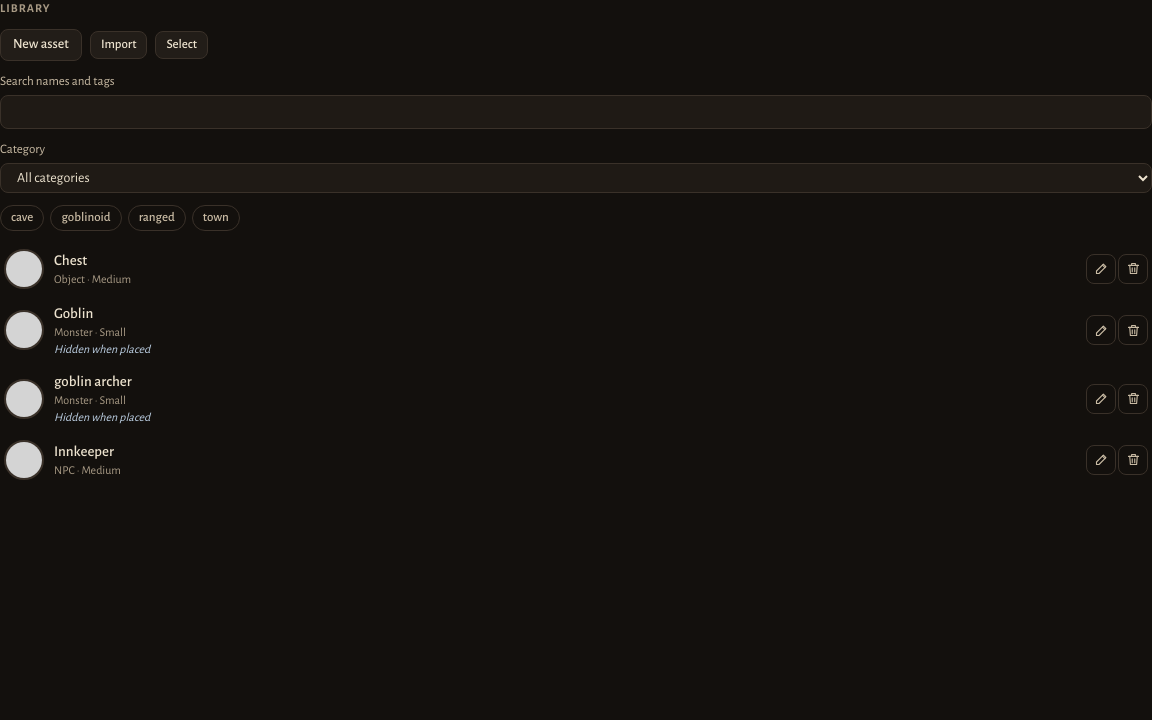
Test: deleting (specs/03-domain-model.md §7, D-083) › deletes an unused asset after the confirmation
Click the button named "Delete Chest" at (1133, 269), box [1118,254,1148,284]
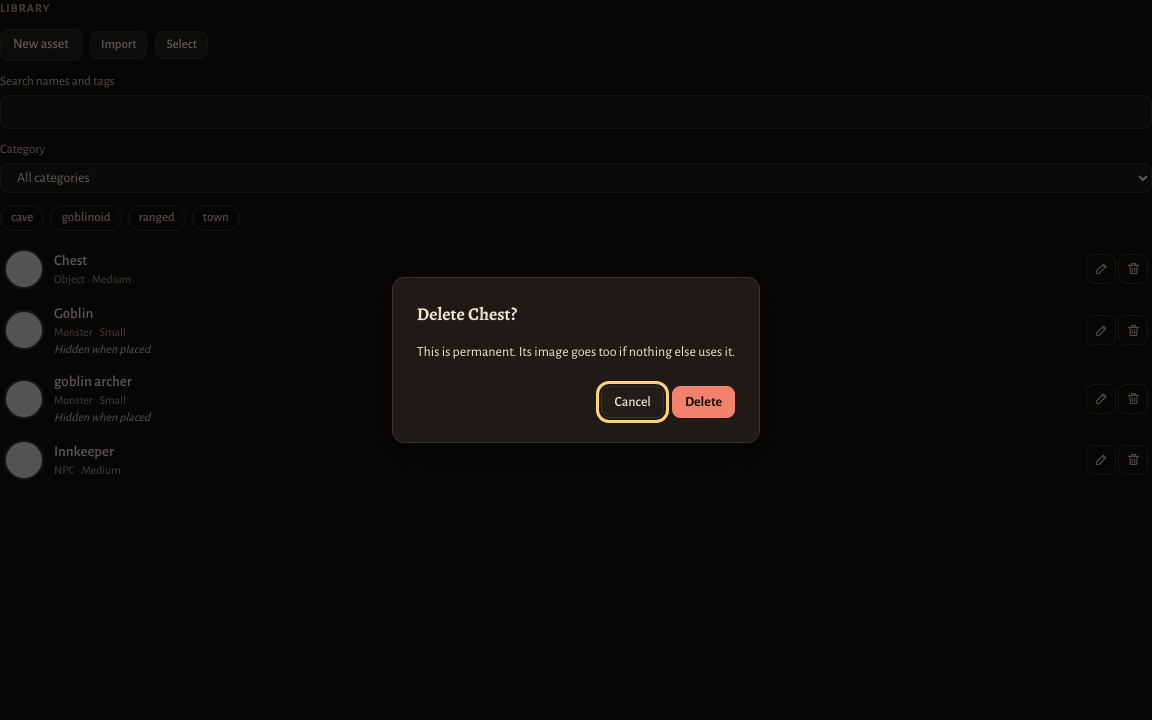
Now the dialog shows "This is permanent. Its image goes too if nothing else uses it.", box [417,345,735,359]
Click the button "Delete" at (704, 402), box [672,386,735,418]
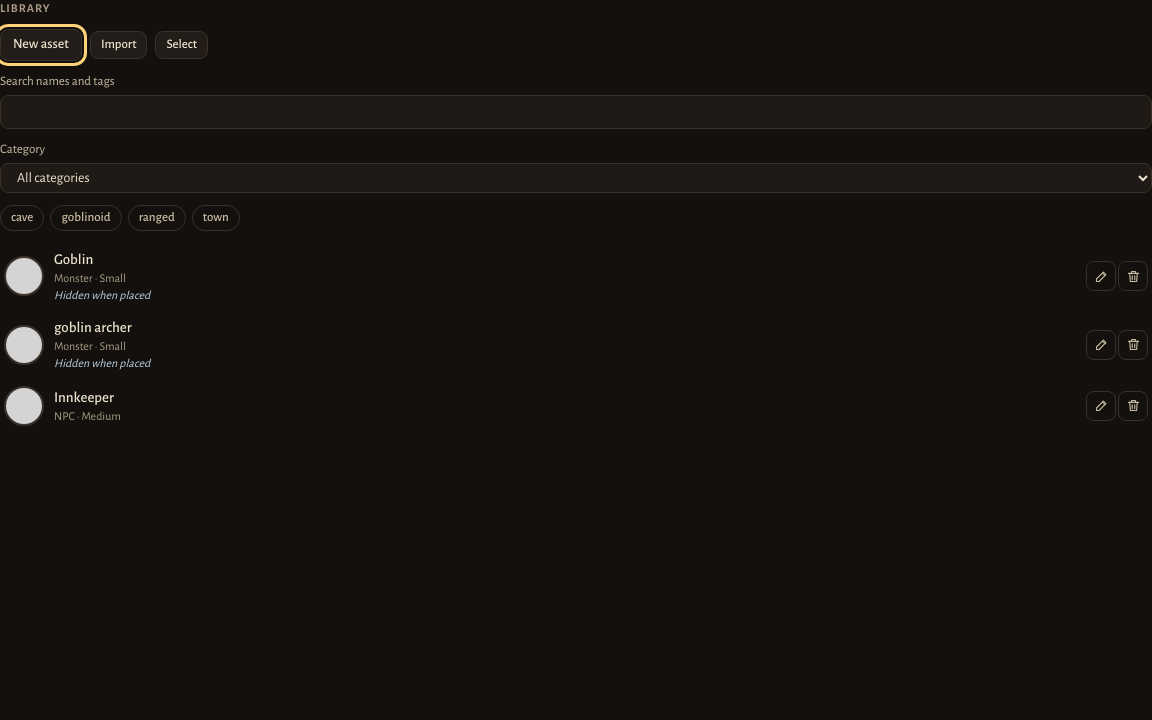
Now the dialog is gone
